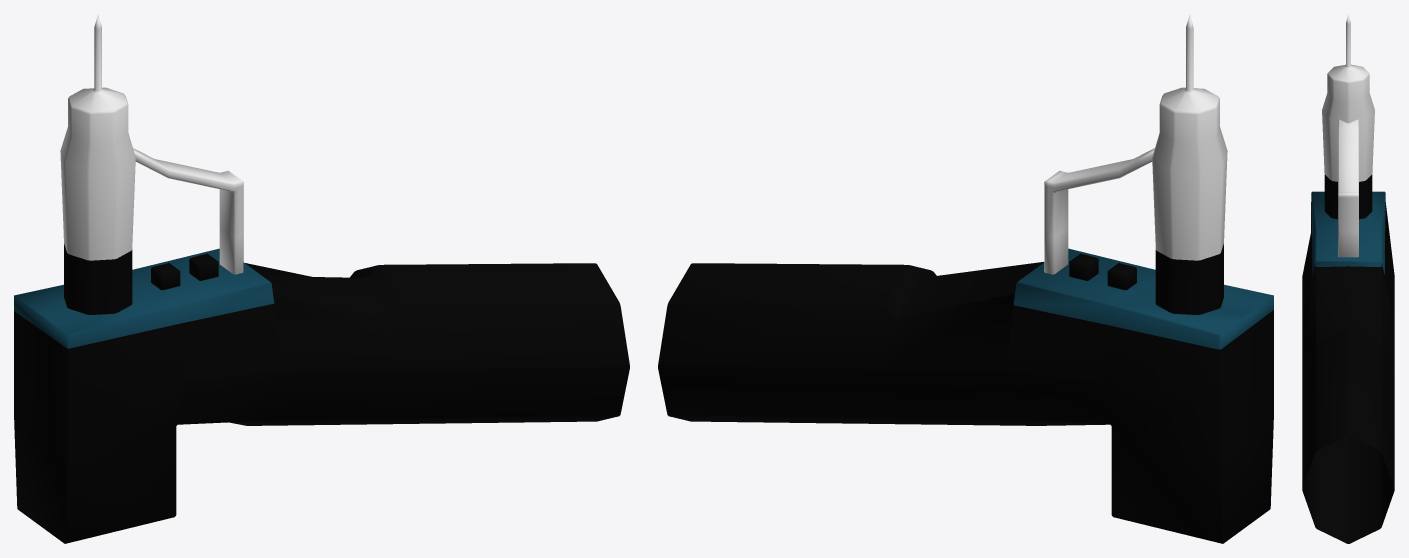
3 renders of one model, left to right at view 1: azimuth 30°, elevation 25°; view 2: azimuth 150°, elevation 25°; view 3: azimuth 270°, elevation 25°, orthographic. The views are drawn at different scales.
Parts seen in each view (by area): view 1: Circle; view 2: Circle; view 3: Circle.
Part boxes in pixels (bbox=[...]): Circle: bbox=[14, 14, 629, 543]; Circle: bbox=[658, 14, 1273, 543]; Circle: bbox=[1302, 14, 1394, 543].
Size of the model in its own units: 23.15 by 21.03 by 4.86.
